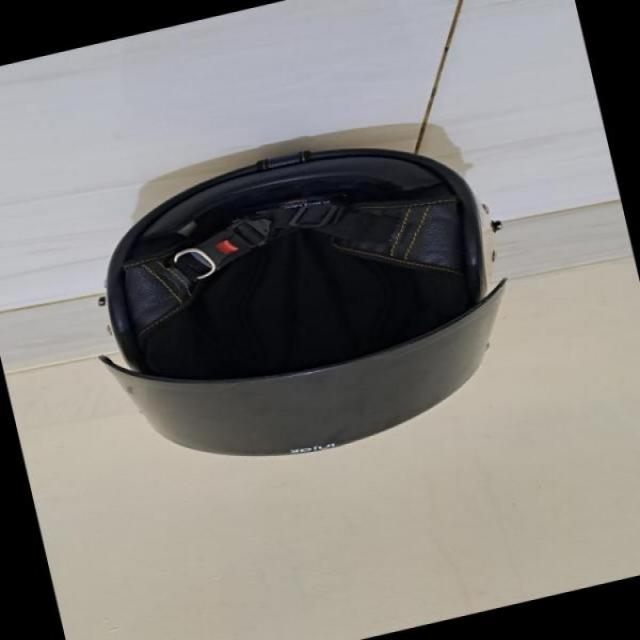Helmet: (84, 135, 513, 462)
